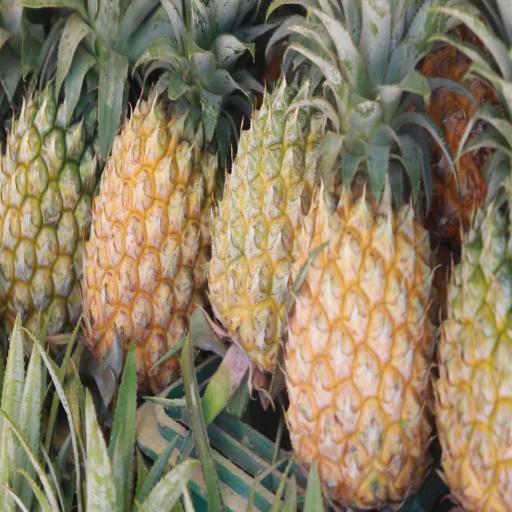------------------------------: (0, 0, 106, 347)
Pineapple - v8 v1: (280, 88, 434, 512), (74, 0, 219, 402), (204, 0, 350, 393), (424, 106, 512, 512)
